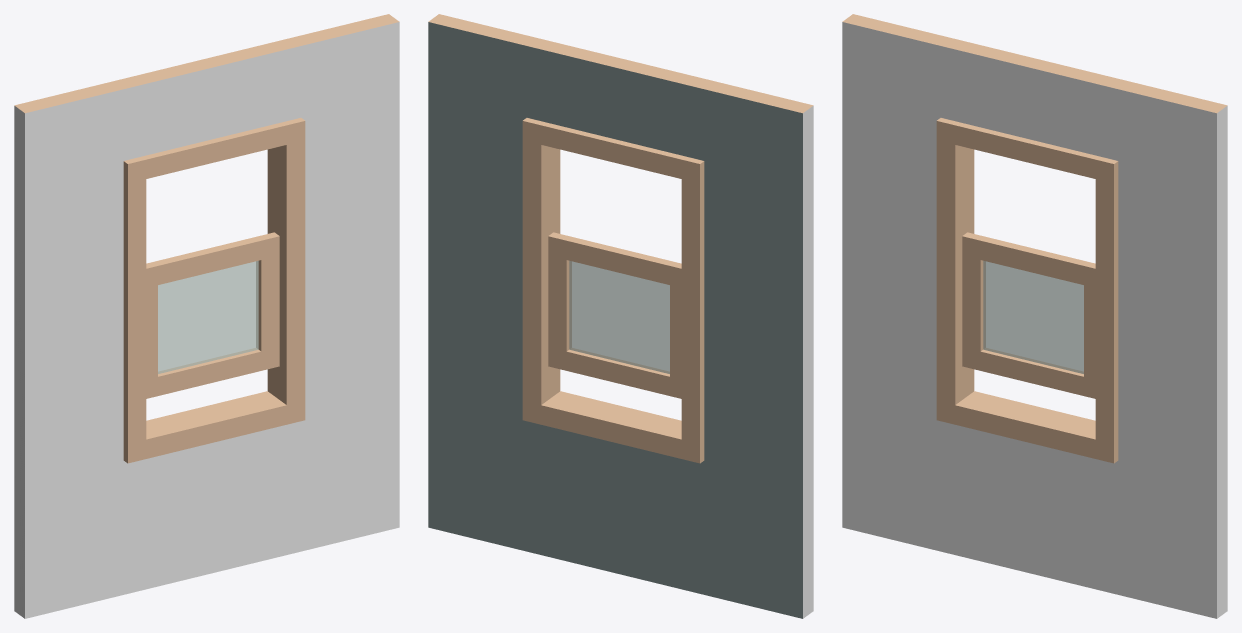
Rendered from wallWindowSlide.glb.
3 views of the same model, side by side, from view 1: azimuth 30°, elevation 25°; view 2: azimuth 150°, elevation 25°; view 3: azimuth 330°, elevation 25° (orthographic).
Parts seen in each view (by area): view 1: wallWindowSlide, wallWindowSlide.001, wallWindowSlide.002; view 2: wallWindowSlide, wallWindowSlide.001, wallWindowSlide.002; view 3: wallWindowSlide, wallWindowSlide.001, wallWindowSlide.002.
Boxes of the visible parts, x1,y1,x2,y2 form: wallWindowSlide: (14, 14, 399, 618); wallWindowSlide.001: (146, 232, 279, 398); wallWindowSlide.002: (158, 261, 258, 373); wallWindowSlide: (428, 14, 813, 618); wallWindowSlide.001: (548, 232, 681, 398); wallWindowSlide.002: (569, 261, 669, 373); wallWindowSlide: (842, 14, 1227, 618); wallWindowSlide.001: (962, 232, 1095, 398); wallWindowSlide.002: (983, 261, 1083, 373).
Size of the model in its own units: 3 by 3.87 by 0.2673.
